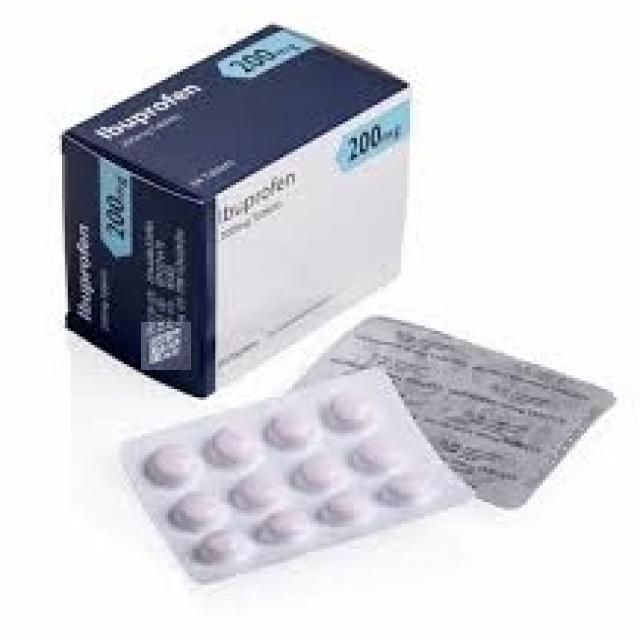Data-Matrix: (142, 322, 192, 370)
